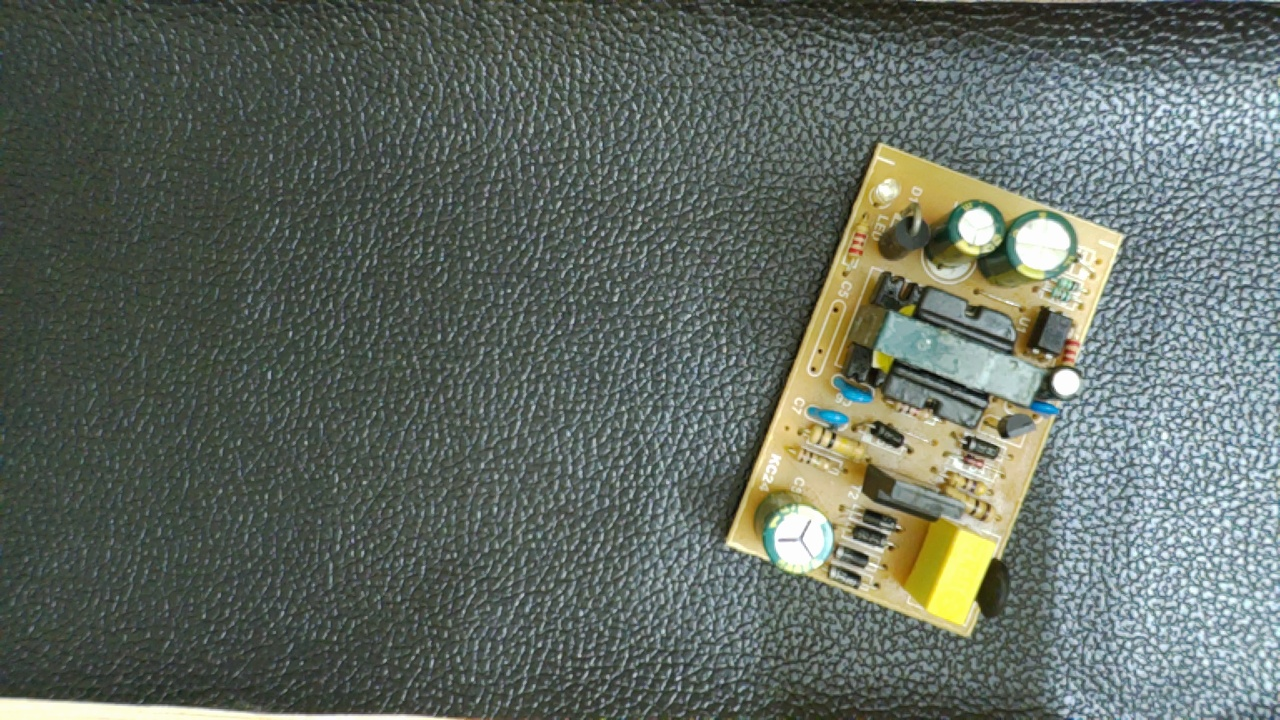fuse: (969, 543, 1020, 624)
hv_capacitor: (753, 482, 834, 581)
optocoupler: (1026, 299, 1076, 363)
